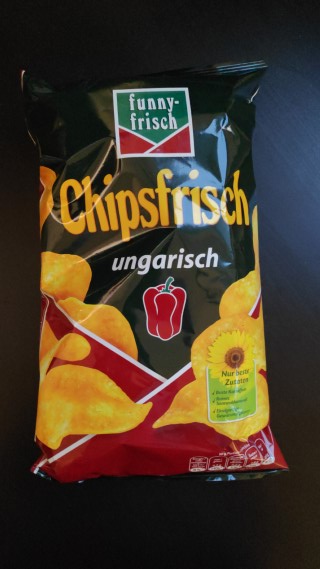chipsfrisch: (16, 60, 289, 486)
